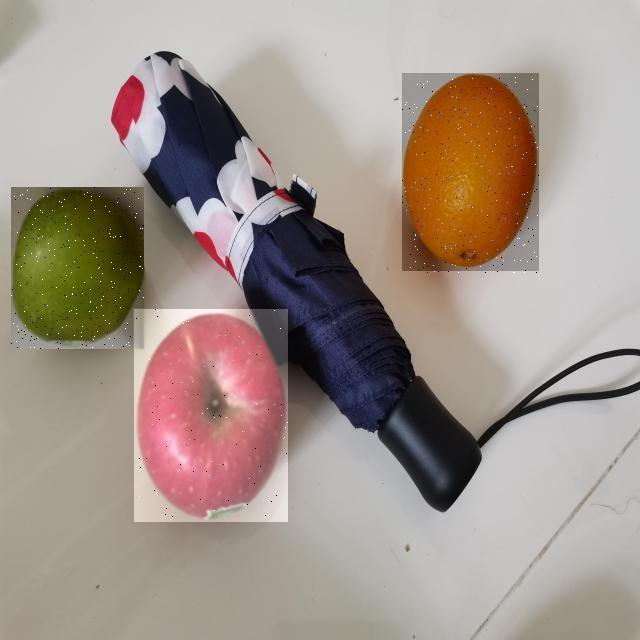Apple: (134, 309, 288, 522), (11, 187, 144, 349)
Orange: (402, 74, 539, 274)
